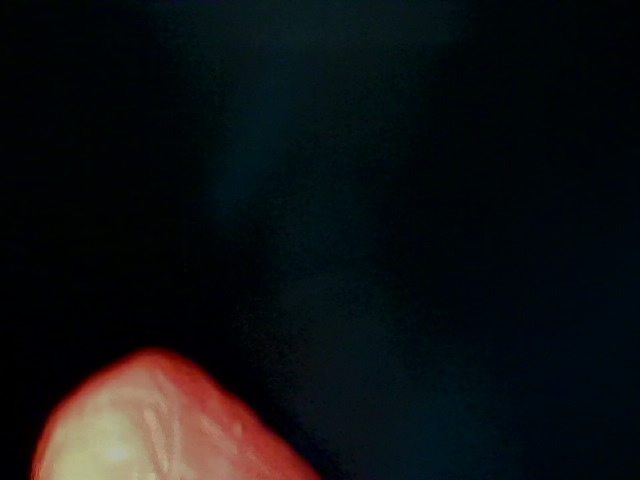YHLJ: (31, 415, 151, 480)
